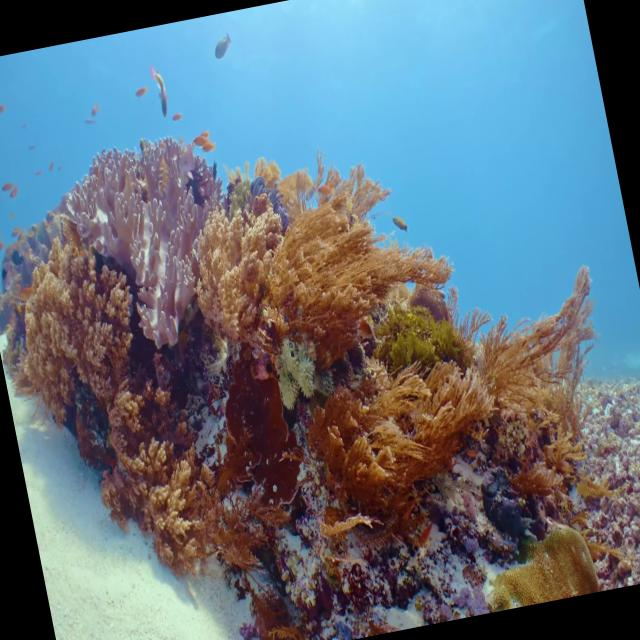fish: (149, 61, 175, 128), (204, 22, 238, 68)
